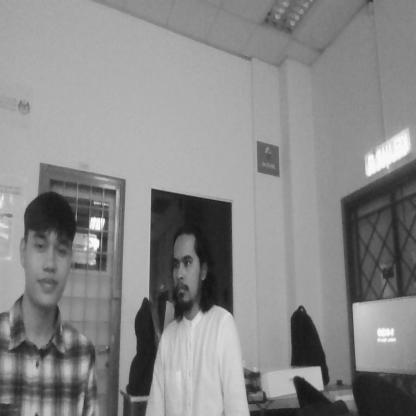Open-Eyes: (26, 232, 72, 263), (169, 250, 197, 276)
